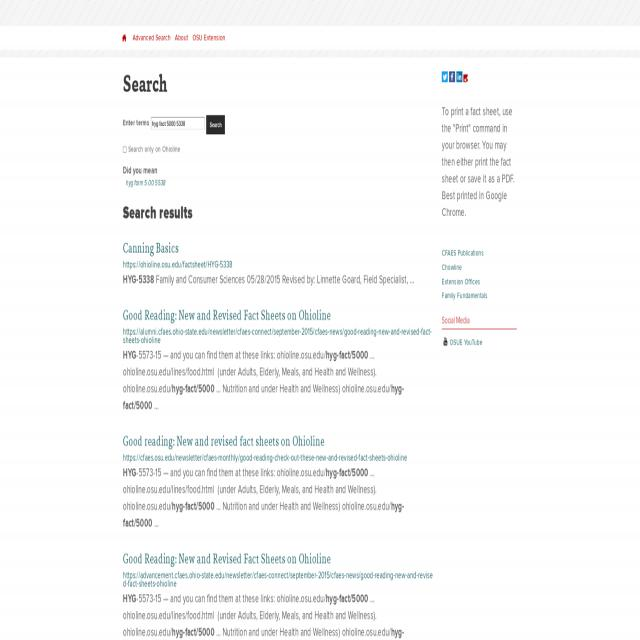button: (206, 115, 225, 135), (442, 71, 448, 82), (449, 71, 455, 82), (456, 71, 462, 82), (122, 34, 126, 42)
field: (151, 117, 205, 130)
